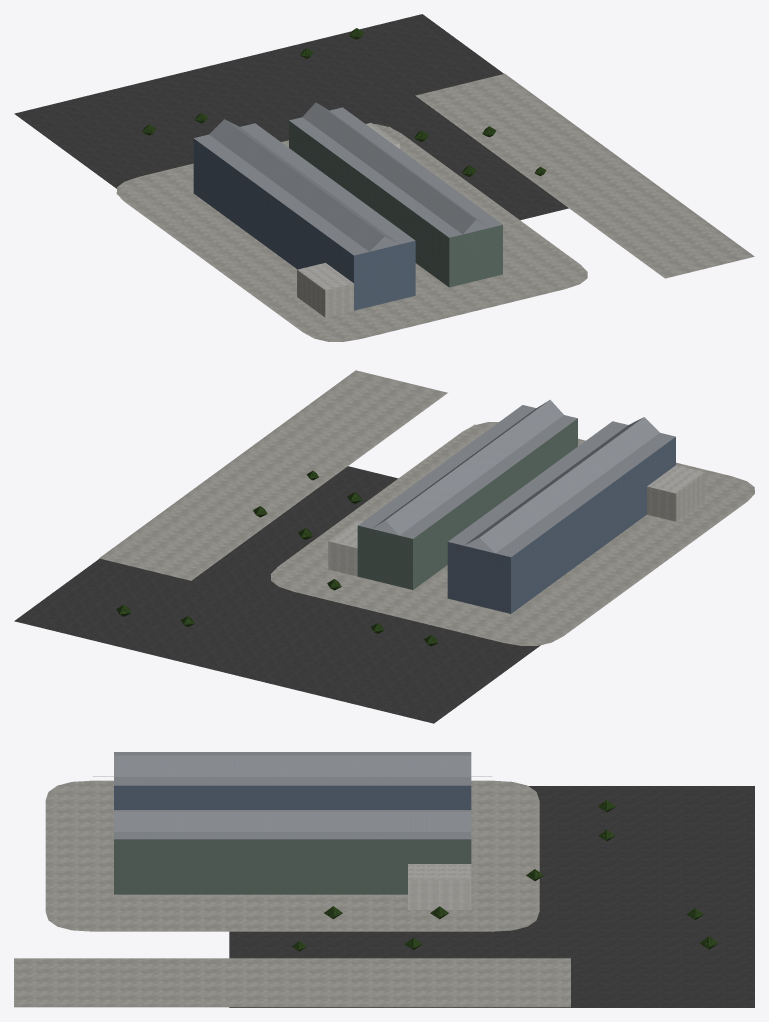
The model's file is cidade_S07_06_lod.gltf.
3 renders of one model, top to bottom at view 1: azimuth 30°, elevation 25°; view 2: azimuth 150°, elevation 25°; view 3: azimuth 270°, elevation 25°, orthographic. The views are drawn at different scales.
Parts seen in each view (by area): view 1: S07_06_Chao_LOD2, S07_06_Edificios_LOD1, S07_06_Silhueta_LOD2, S07_06_Vegetacao_LOD2; view 2: S07_06_Chao_LOD2, S07_06_Edificios_LOD1, S07_06_Silhueta_LOD2, S07_06_Vegetacao_LOD2; view 3: S07_06_Chao_LOD2, S07_06_Edificios_LOD1, S07_06_Silhueta_LOD2, S07_06_Vegetacao_LOD2.
Part boxes in pixels (bbox=[...]): S07_06_Chao_LOD2: bbox=[14, 14, 754, 341]; S07_06_Edificios_LOD1: bbox=[136, 102, 567, 318]; S07_06_Silhueta_LOD2: bbox=[193, 107, 502, 310]; S07_06_Vegetacao_LOD2: bbox=[142, 28, 546, 176]; S07_06_Chao_LOD2: bbox=[14, 370, 754, 723]; S07_06_Edificios_LOD1: bbox=[291, 399, 734, 622]; S07_06_Silhueta_LOD2: bbox=[357, 405, 675, 613]; S07_06_Vegetacao_LOD2: bbox=[116, 470, 438, 646]; S07_06_Chao_LOD2: bbox=[14, 780, 754, 1007]; S07_06_Edificios_LOD1: bbox=[93, 755, 491, 913]; S07_06_Silhueta_LOD2: bbox=[114, 752, 471, 894]; S07_06_Vegetacao_LOD2: bbox=[291, 800, 718, 951].
Size of the model in its own units: 102 by 15.8 by 141.
9 materials, 9 textured.
